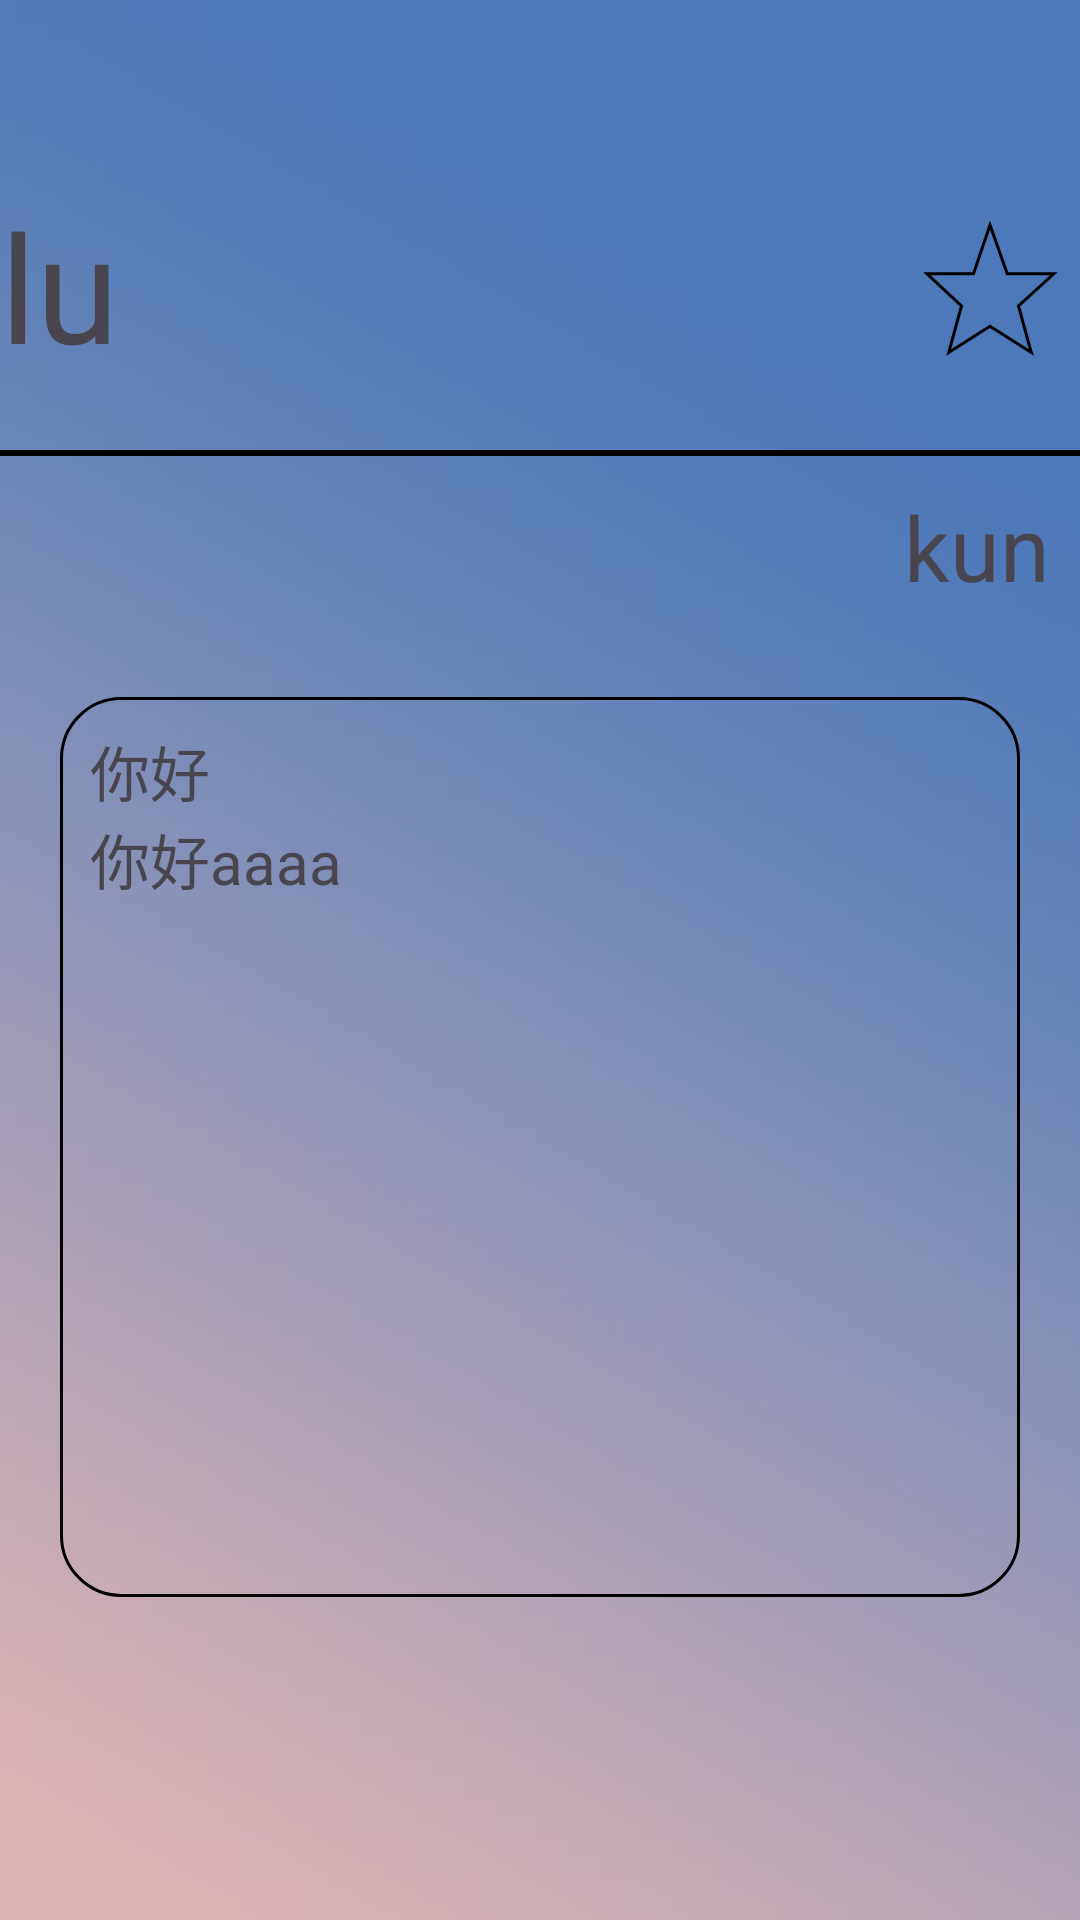

Locate icon controls on the screen. Image size 1080 x 1920, boxes as (x1, y1, x2, y2).
star border: (923, 221, 1058, 356)
